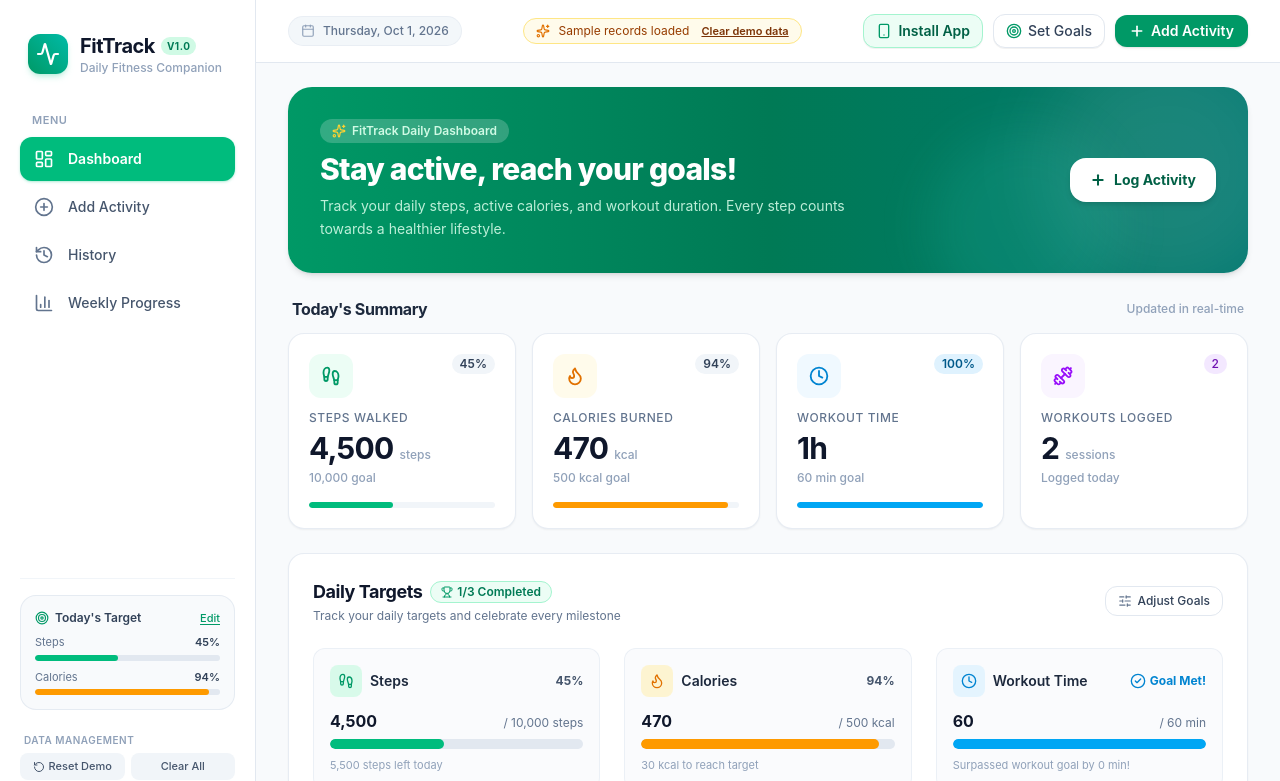
Test: FitTrack App - Complete User Flow › validates activity form inputs against negative and missing values
The image size is (1280, 781).
Click "Add Activity" tab in sidebar or header
Click the button "Add Activity" below "Menu" at (128, 206), box [20,184,235,228]
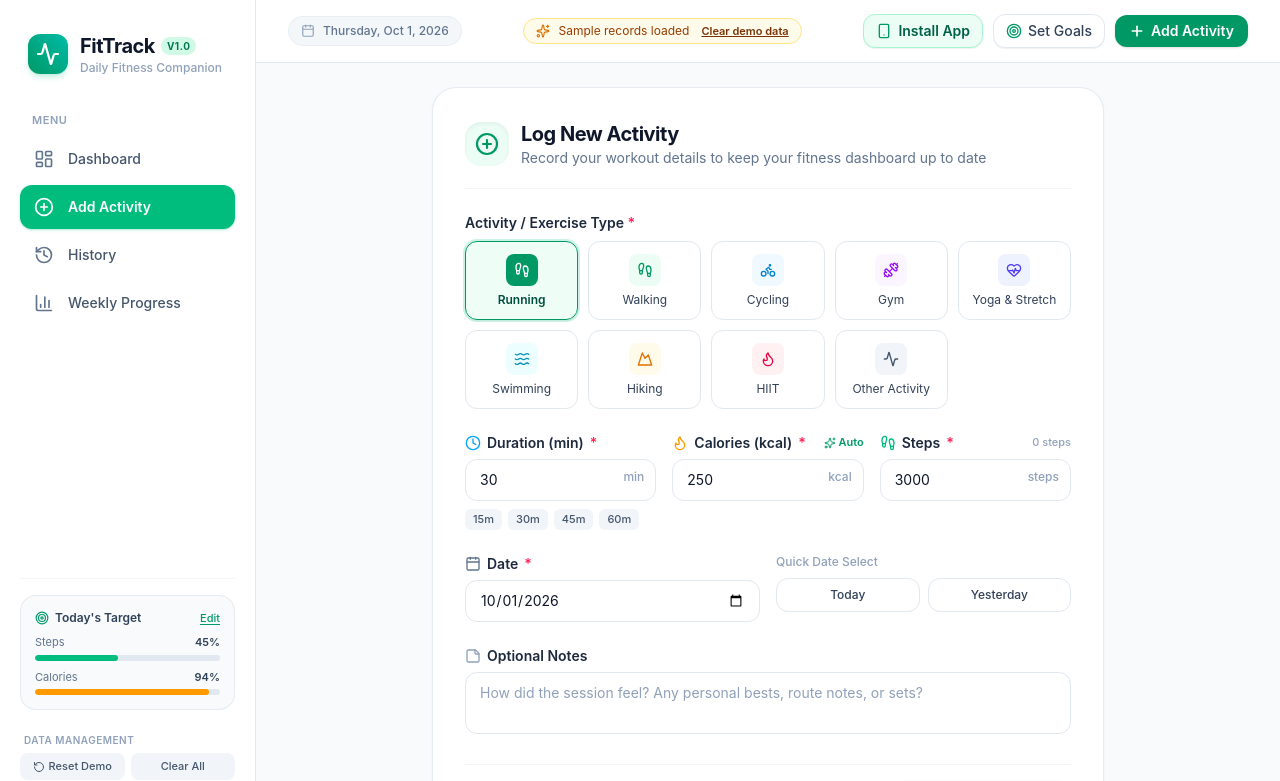
Attempt to enter negative duration
Replace the text in the number field with placeholder "e.g. 45" below "Duration (min)" with "-10" at (561, 480), box [465,459,656,501]
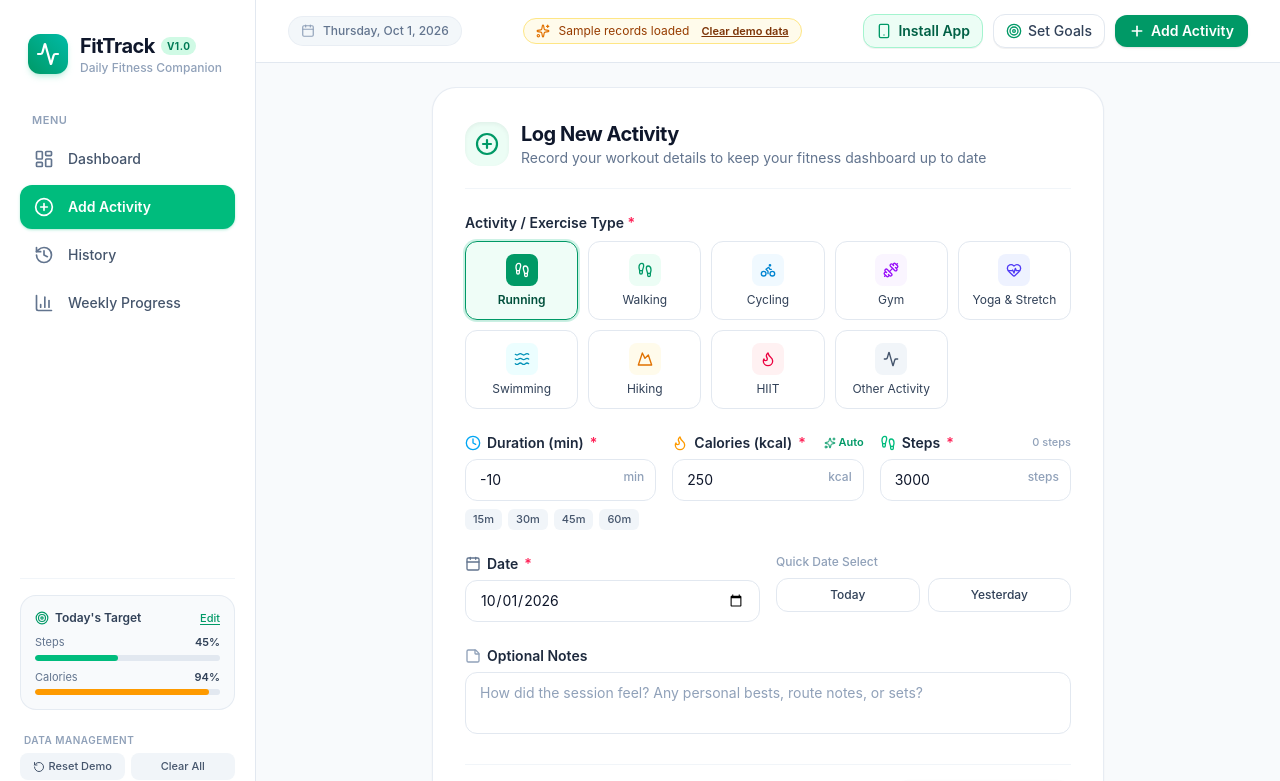
Attempt to enter negative calories
Replace the text in the number field with placeholder "e.g. 350" below "Calories (kcal)" with "-50" at (768, 480), box [672,459,864,501]
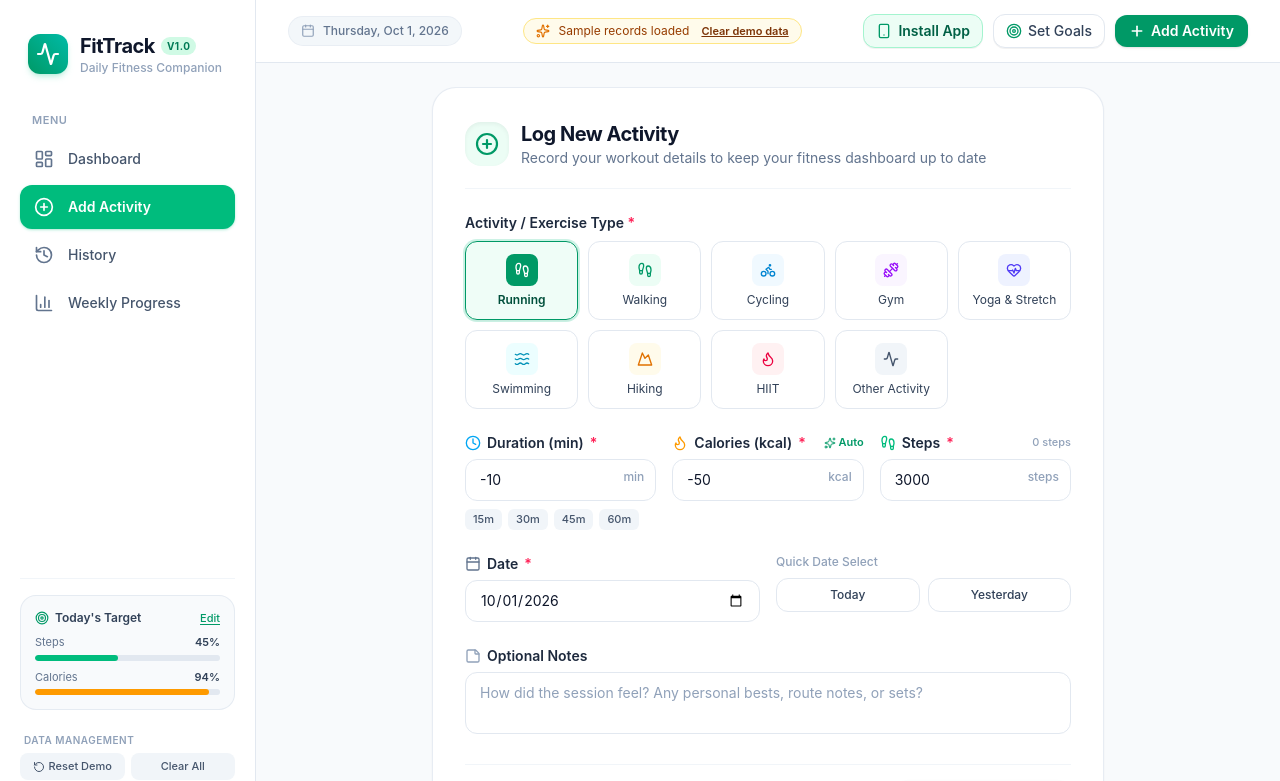
Attempt to enter negative steps
Replace the text in the 3rd number field with placeholder "e.g. 4500" with "-500" at (975, 480), box [880,459,1071,501]
(page scrolled)
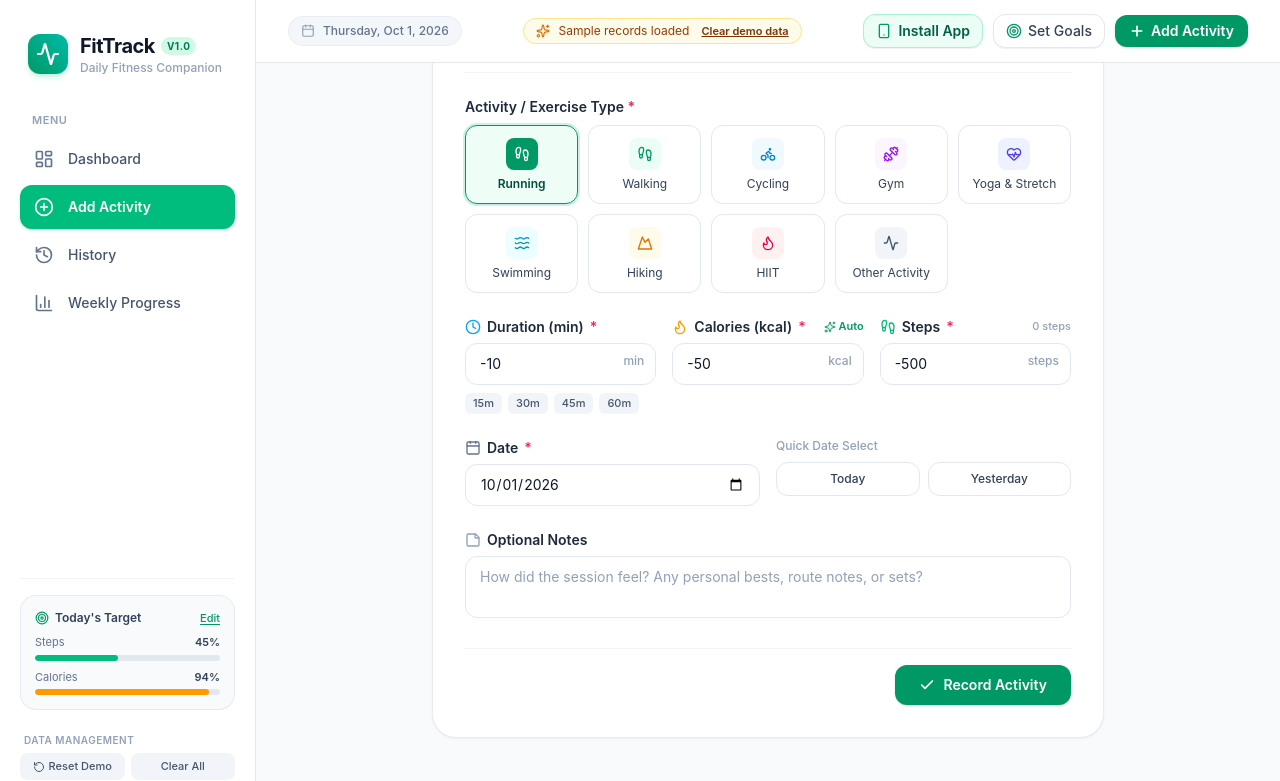
Submit form
Submit the form named "Record Activity", box [465,97,1071,704]
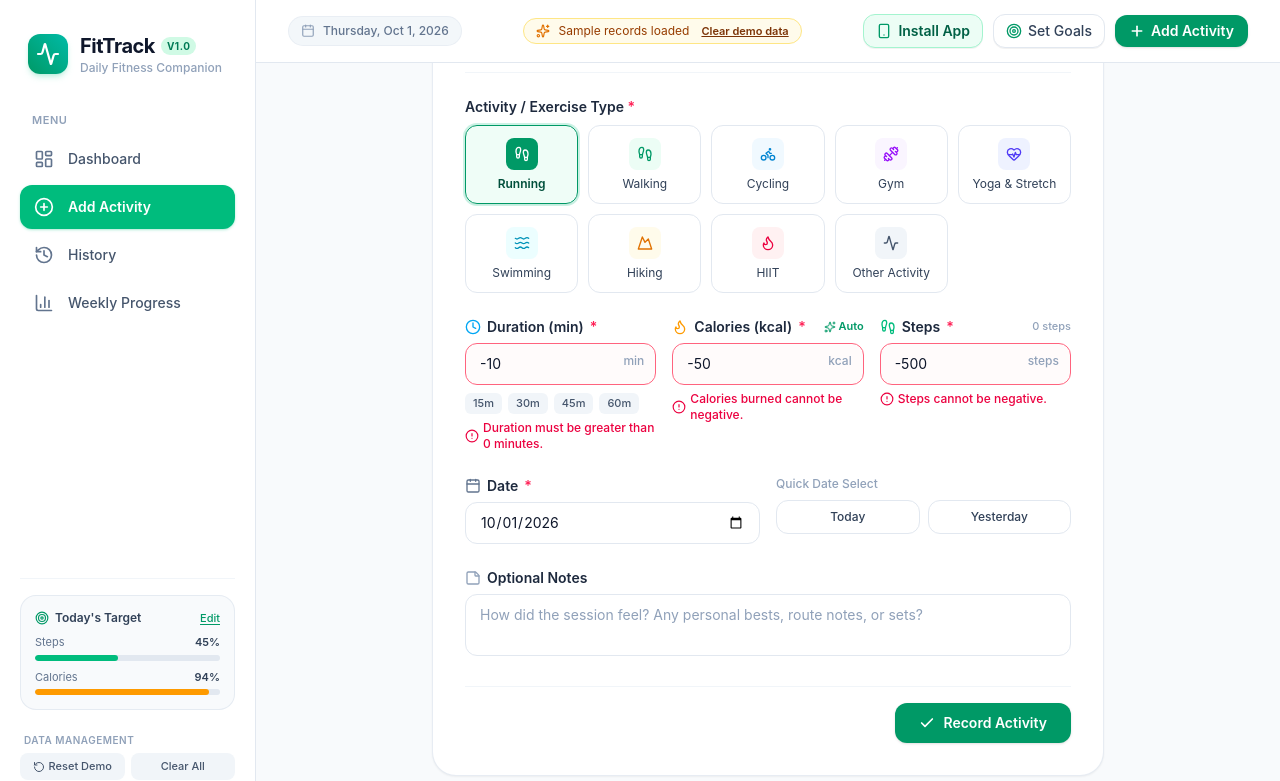
expect the text "Duration must be greater than 0 minutes." is shown: met, box [465,420,656,452]
expect the text "Calories burned cannot be negative." is shown: met, box [672,391,864,423]
expect the text "Steps cannot be negative." is shown: met, box [880,391,1071,407]
